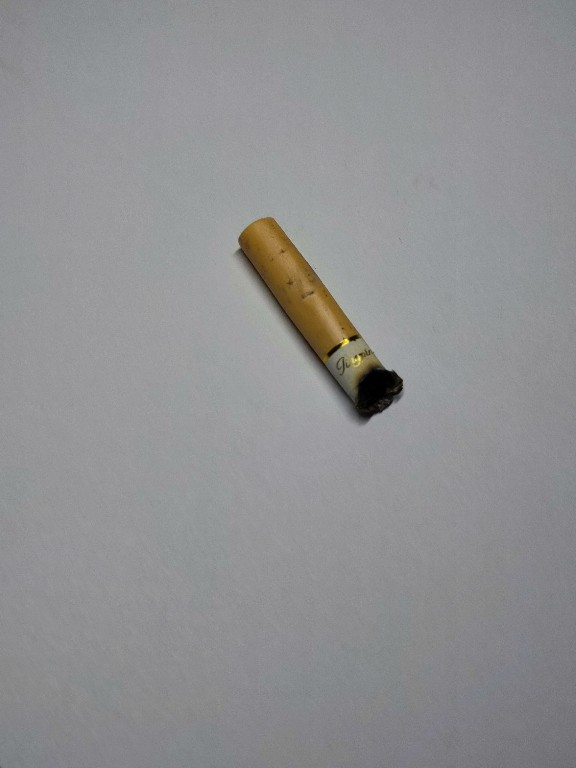cigarette: (233, 214, 409, 425)
